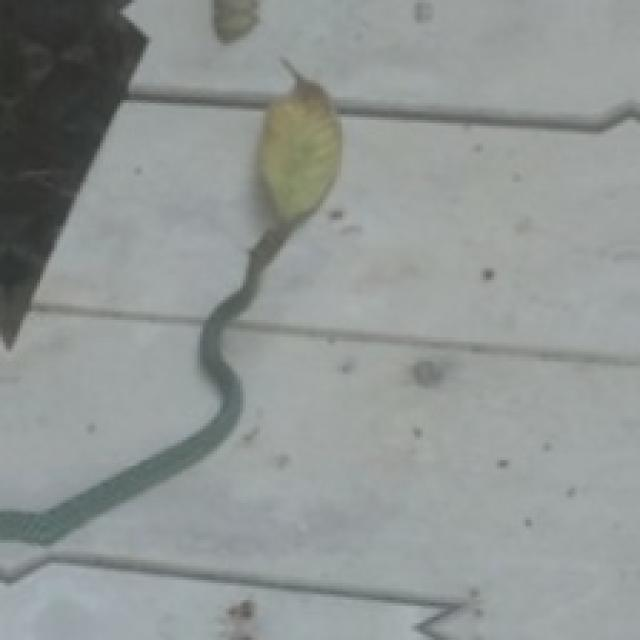paradise tree snake: (0, 220, 299, 544)
